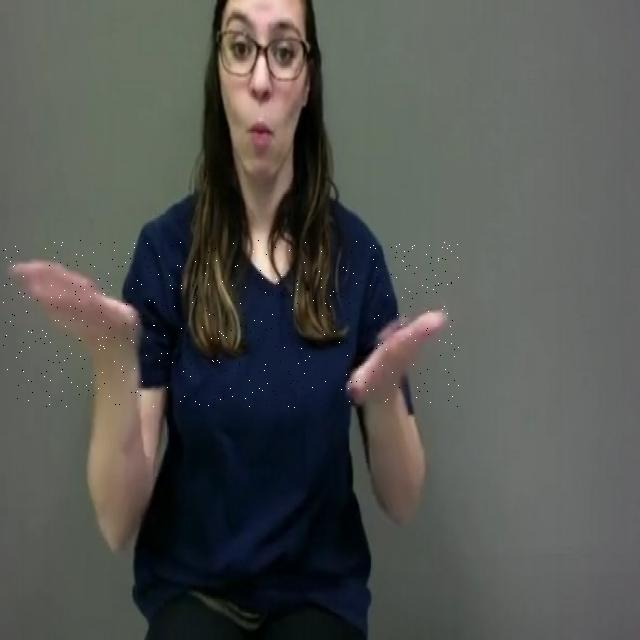what: (3, 240, 459, 408)
